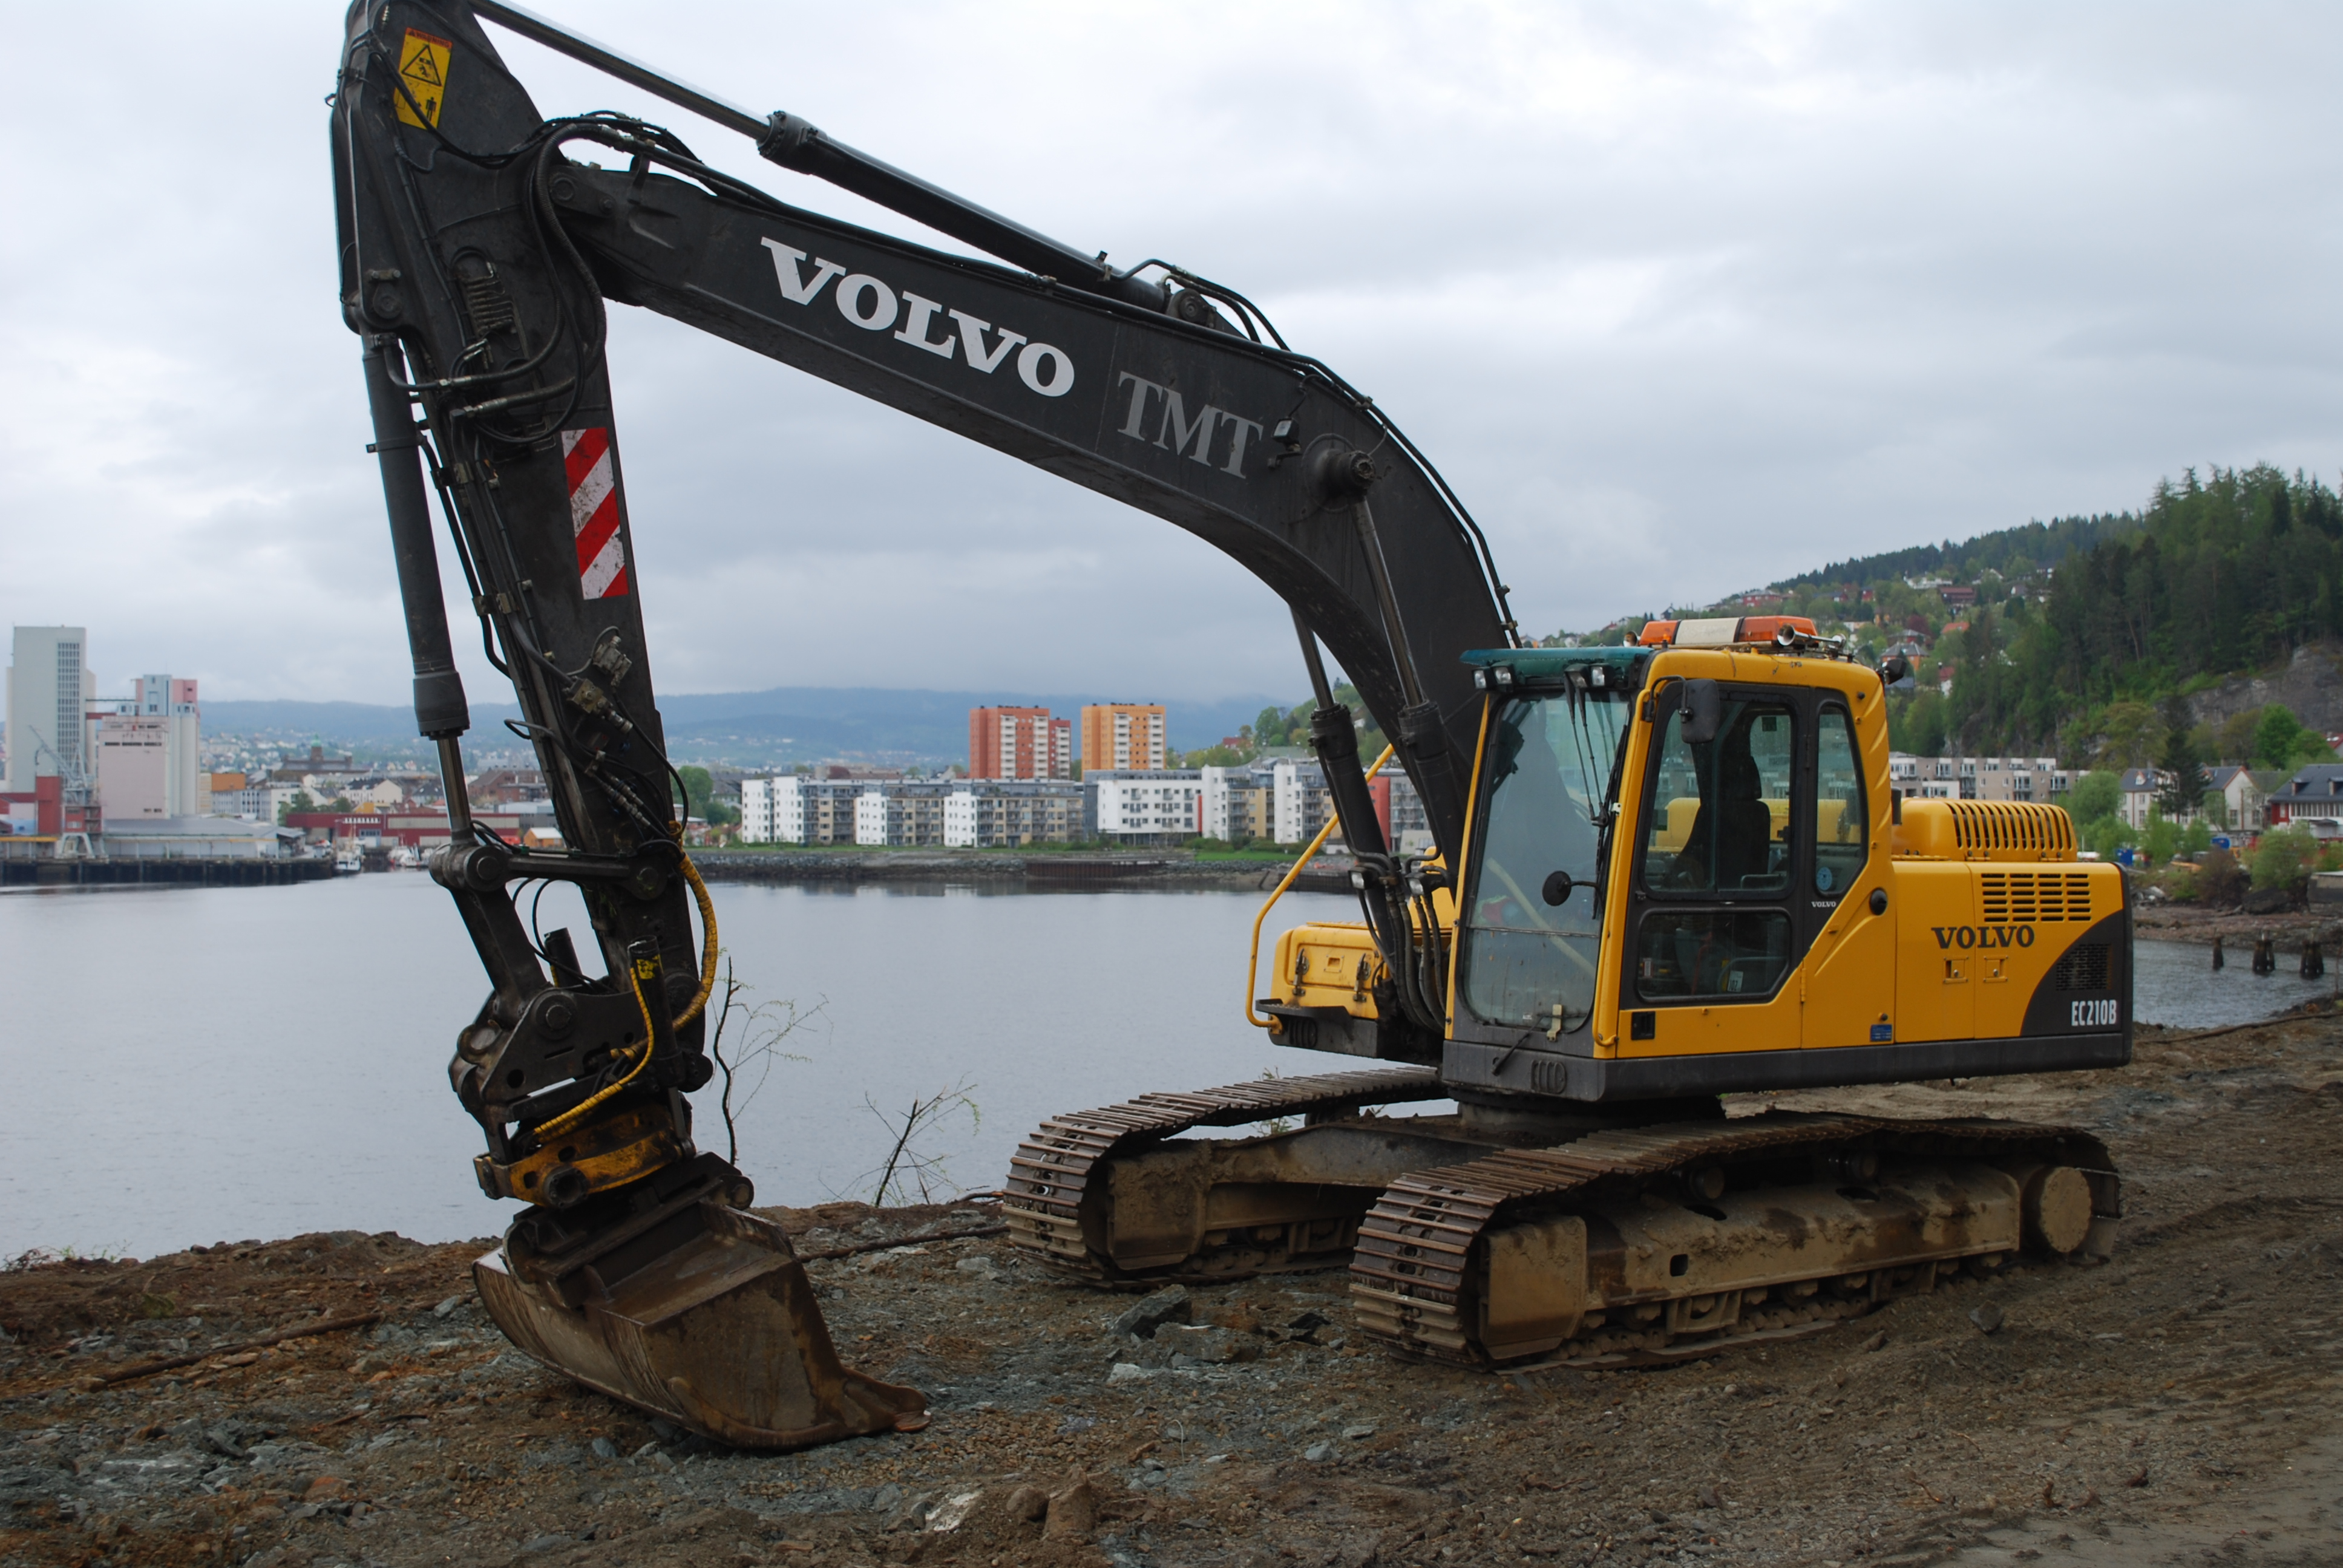excavator: (308, 10, 2152, 1466)
